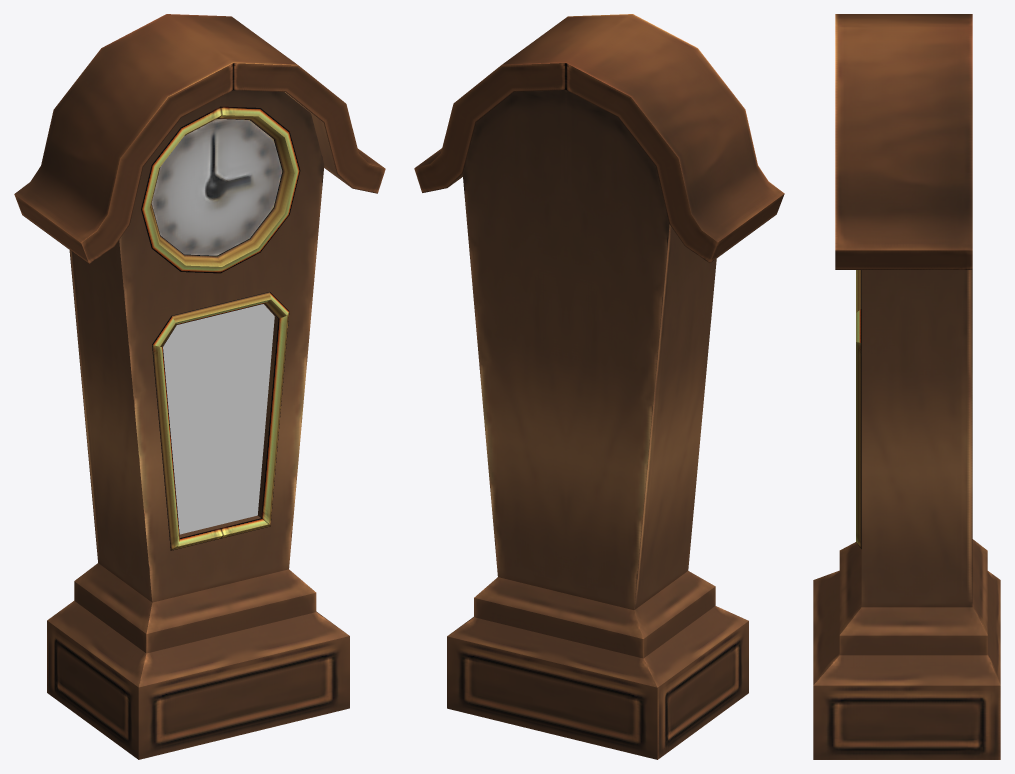
Rendered from Wall Clock_HD.fbx.
3 renders of one model, left to right at view 1: azimuth 30°, elevation 25°; view 2: azimuth 150°, elevation 25°; view 3: azimuth 270°, elevation 25°, orthographic. The views are drawn at different scales.
Parts seen in each view (by area): view 1: WallClock, glass; view 2: WallClock; view 3: WallClock.
Part boxes in pixels (box(x1,y1,x2,y2)): WallClock: box(14, 14, 385, 759); glass: box(163, 304, 274, 534); WallClock: box(414, 14, 784, 759); WallClock: box(813, 14, 1000, 759).
Size of the model in its own units: 0.9599 by 2 by 0.5.
